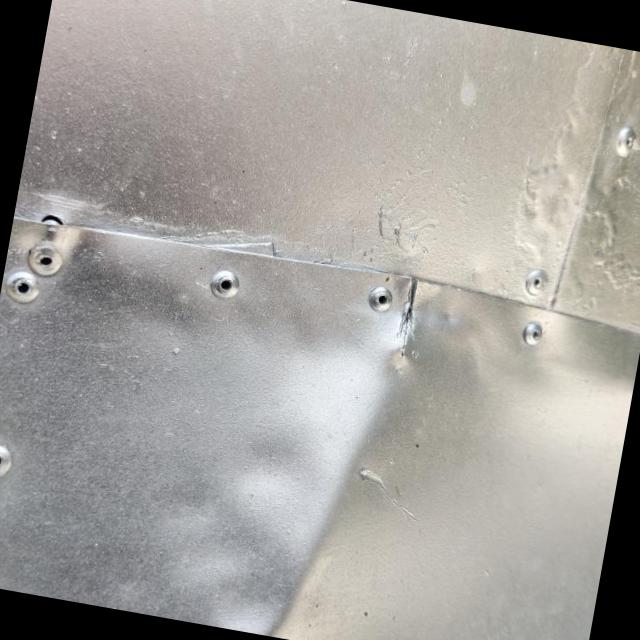Crack: (389, 278, 419, 375)
Dent: (256, 354, 418, 640)
